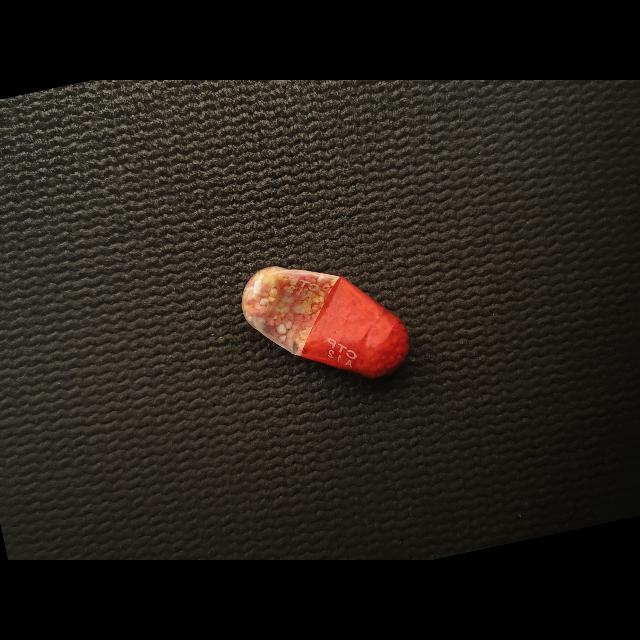Defective Capsule: (241, 266, 409, 378)
